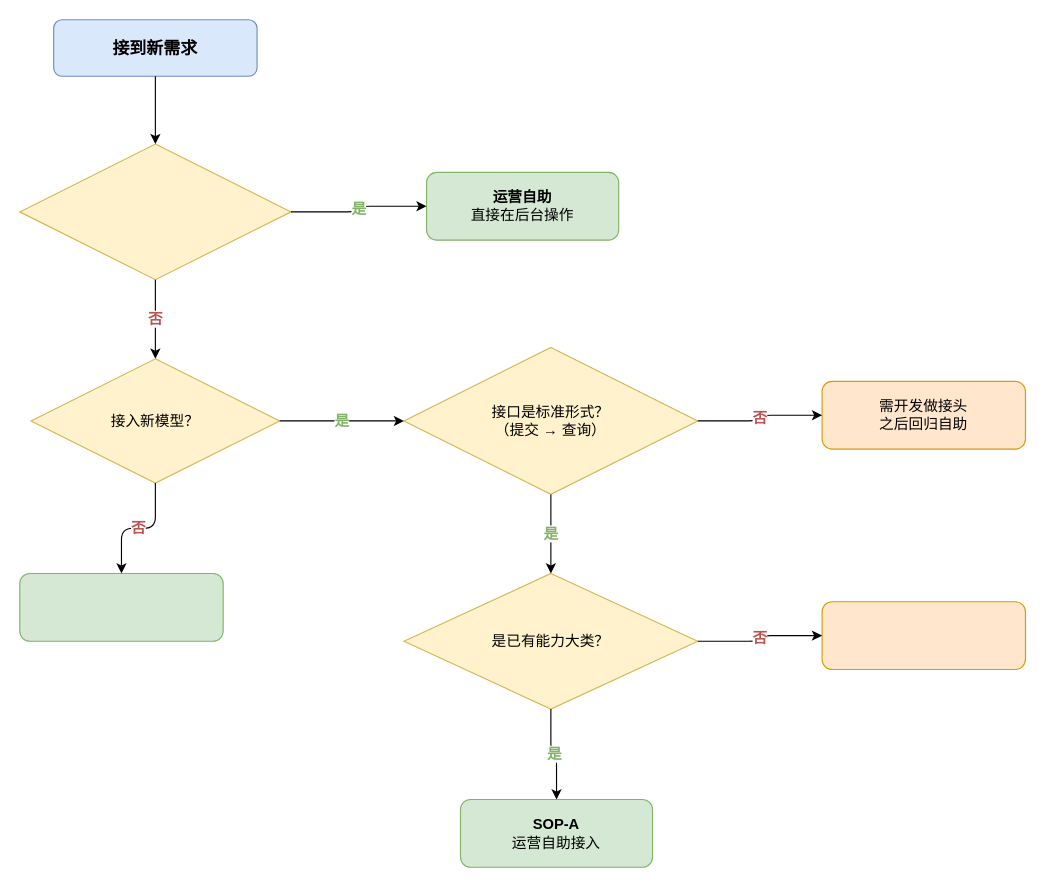
Some shapes in this 1045 by 887 pixel diagram are drawn without their labels. The centre of each missing label's shape, as x and y in pixels:
"SOP-B 运营自助 配流程 / 加分支" goes at [121,606].
"改配置 / 调参 / 上下架 / 调价格？" goes at [155,211].
"需开发登记新类型 之后回归自助" goes at [923,635].
